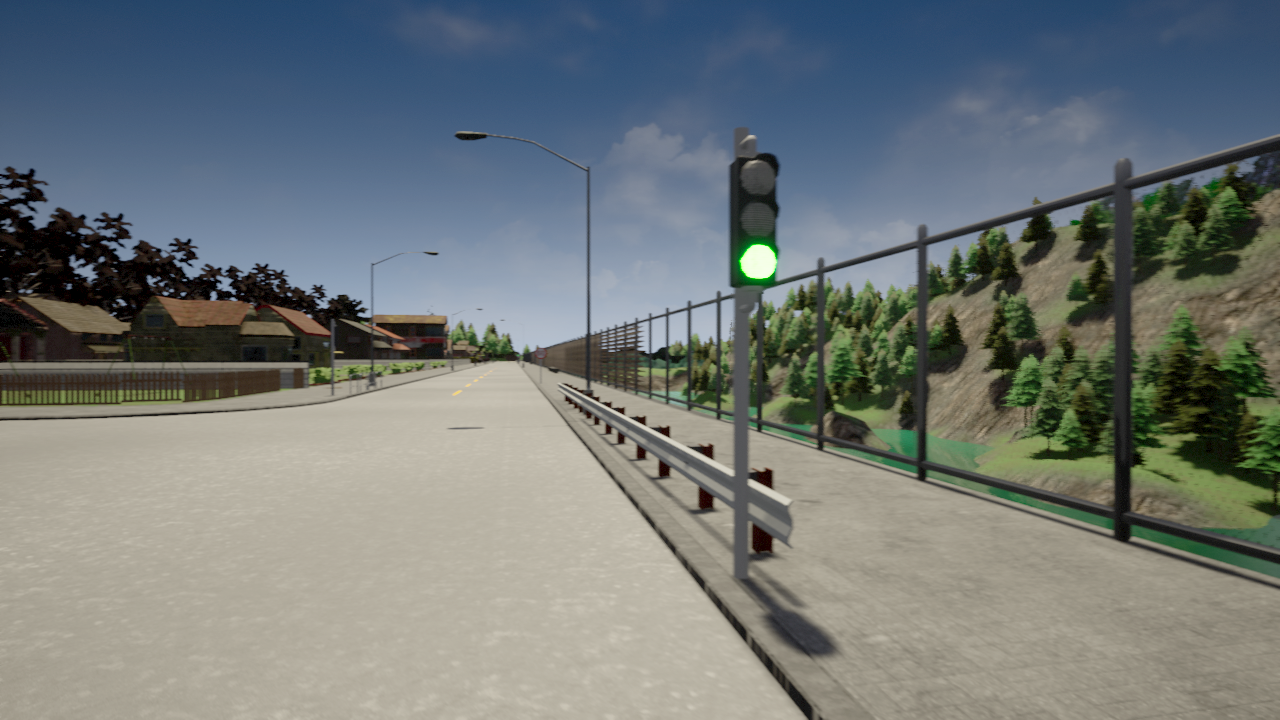green: (725, 151, 781, 291)
